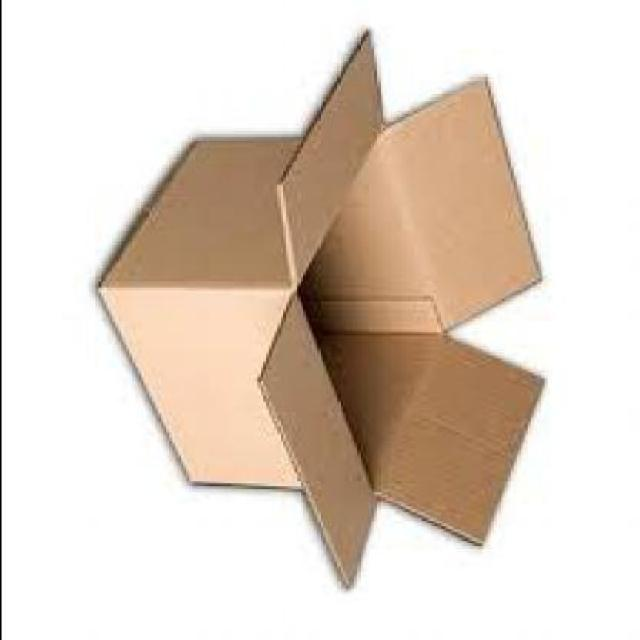CARDBOARD: (100, 34, 549, 594)
